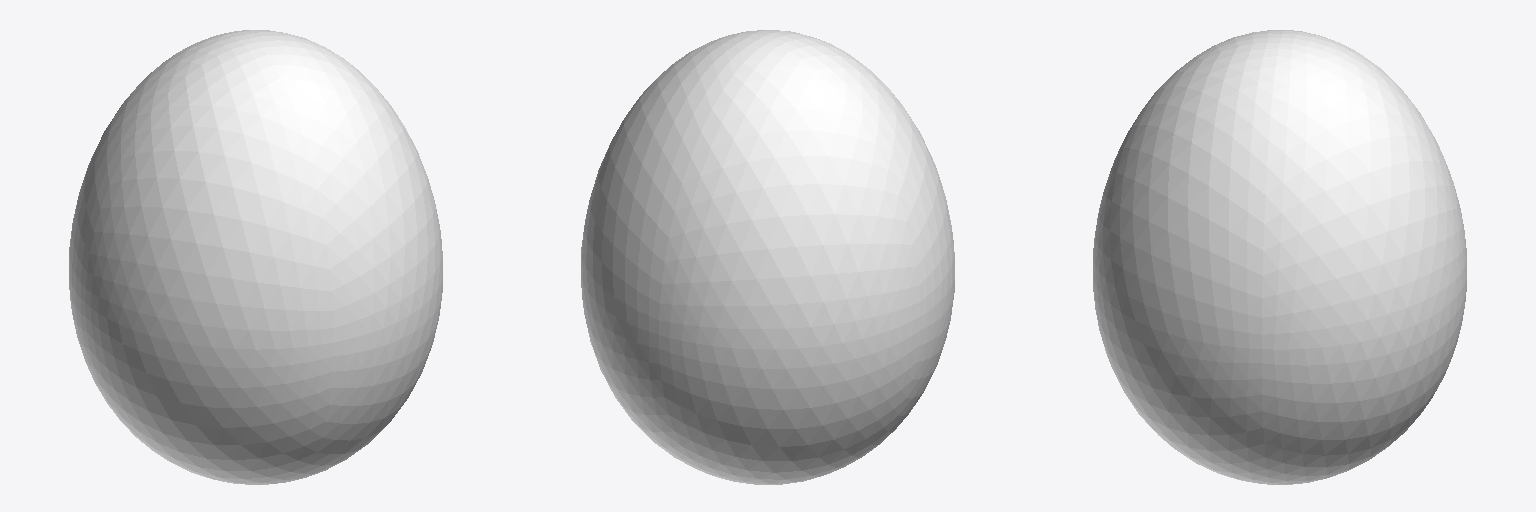
Rendered from mcdonalds_easter_demo_mcfluryy.obj.
3 renders of one model, left to right at view 1: azimuth 30°, elevation 25°; view 2: azimuth 150°, elevation 25°; view 3: azimuth 270°, elevation 25°, orthographic.
Visible parts, largest first — view 1: big_mac; view 2: big_mac; view 3: big_mac.
Boxes of the visible parts, <box> form: big_mac: <box>69,30,442,484</box>; big_mac: <box>581,30,954,484</box>; big_mac: <box>1093,30,1466,484</box>.
Bounding box in the file's own units: 184 × 231 × 184.